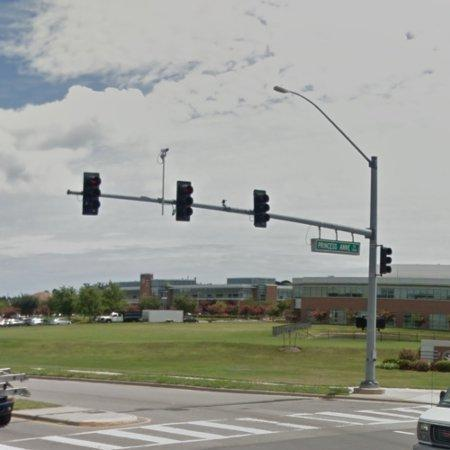traffic lights: (174, 178, 195, 223), (82, 170, 101, 216), (252, 189, 273, 228), (379, 246, 392, 275)
